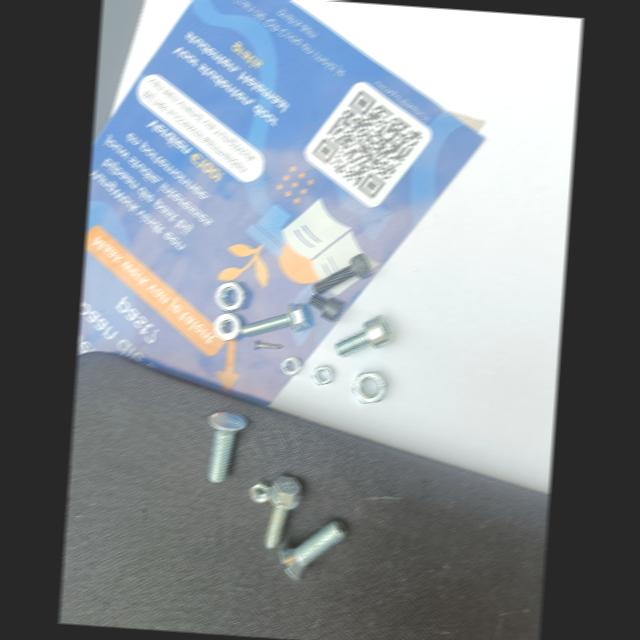bolt: (278, 520, 345, 580), (249, 475, 300, 548), (207, 411, 246, 482), (312, 252, 372, 293), (239, 302, 311, 336), (334, 315, 393, 356), (307, 293, 344, 321), (253, 339, 282, 350)
nuts: (214, 280, 251, 310), (351, 371, 386, 402), (212, 311, 241, 340), (249, 480, 272, 502), (280, 356, 302, 376), (311, 365, 332, 384)
